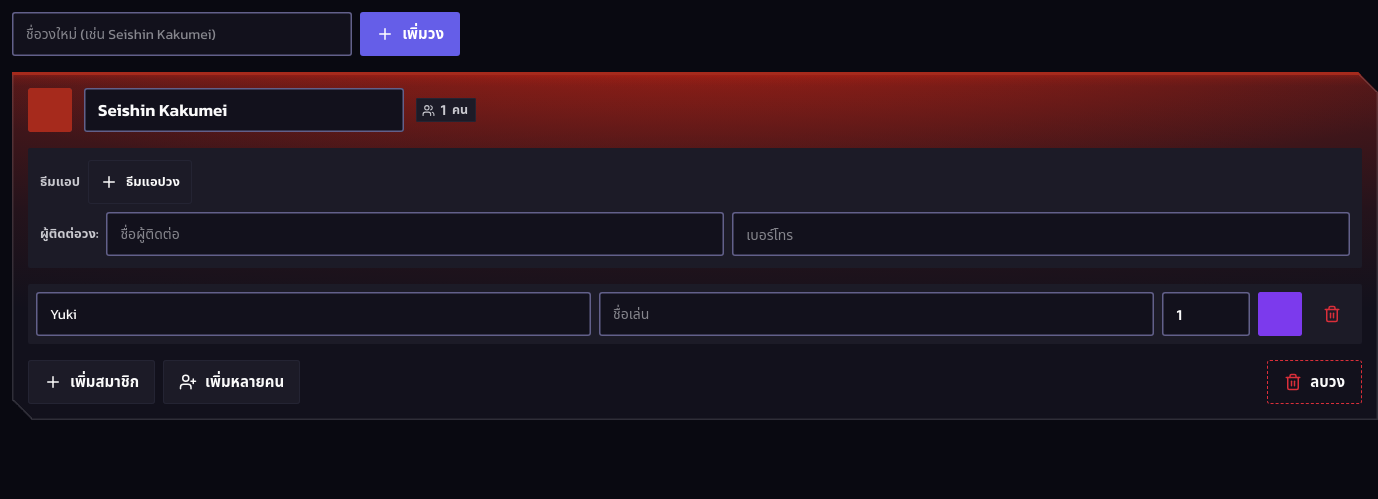
Test: GroupManager - a parent re-render with the same roster › keeps a member just added on screen
The image size is (1378, 499).
Click the button "เพิ่มสมาชิก": click(92, 382) [28,360,155,404]
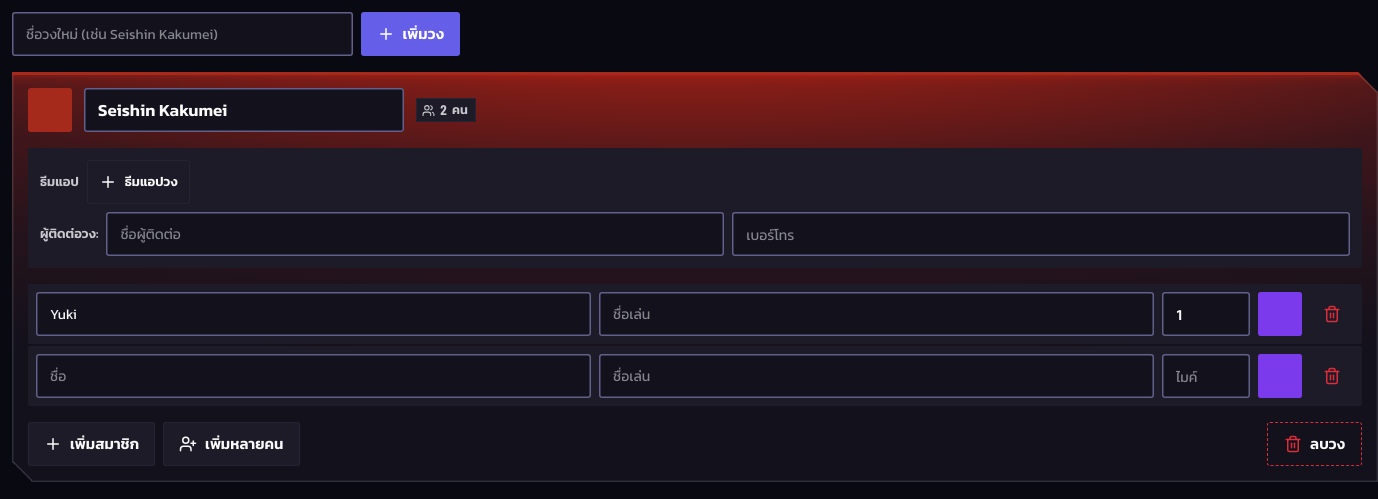
Now the number of fields named "ชื่อ" is 2, box [36,292,591,336]; [36,354,591,398]
